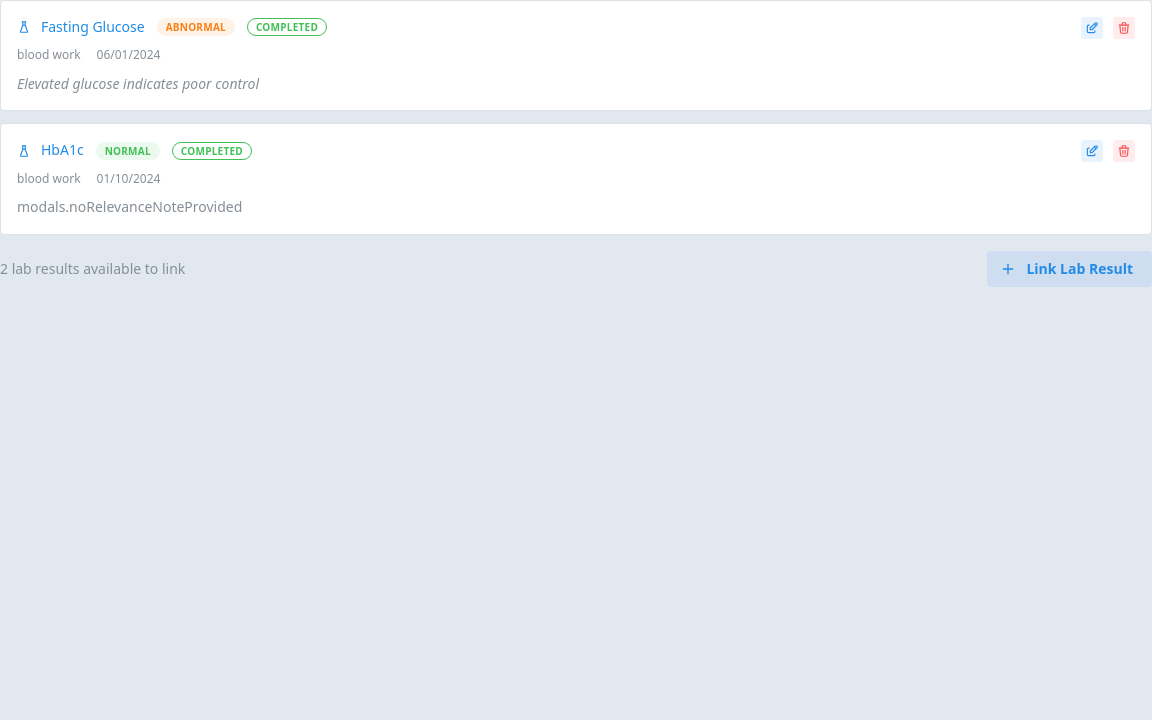
Scenario: LabResultRelationships – edit mode › Add new relationship › opens the add modal when Link Lab Result is clicked
expect the button "Link Lab Result" is shown: met, box left=1026, top=259, right=1133, bottom=278
Click the button "Link Lab Result".
click(1070, 269)  # box left=987, top=251, right=1151, bottom=287
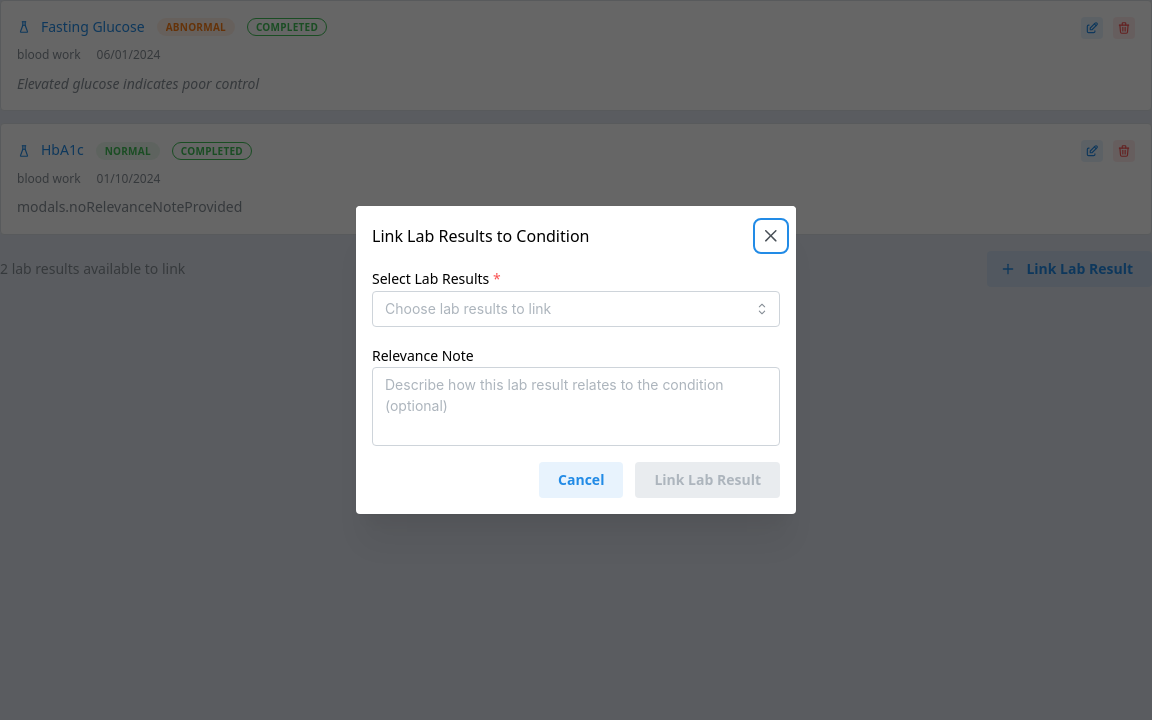
expect the heading "Link Lab Results to Condition" is shown: met, box left=372, top=228, right=590, bottom=244
